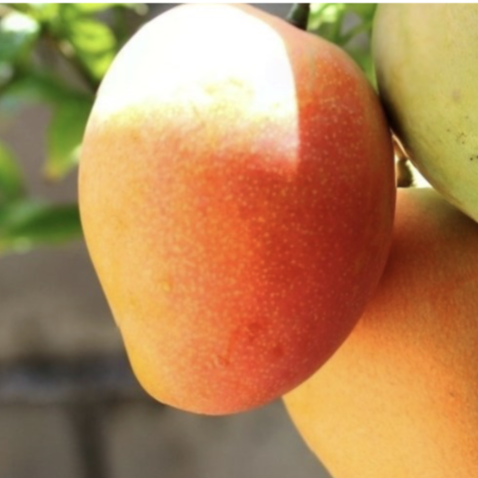mango: (50, 1, 441, 456)
